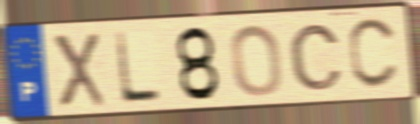8: (174, 24, 221, 103)
C: (346, 15, 401, 92), (287, 22, 346, 93)
L: (112, 29, 164, 106)
O: (228, 22, 284, 99)
X: (49, 31, 109, 110)
